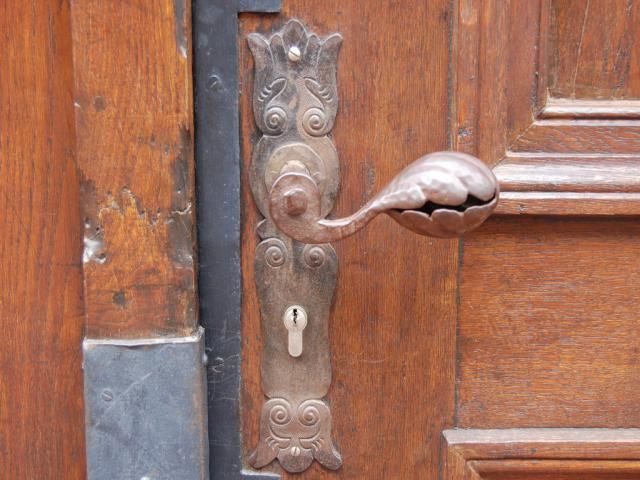Door-handle: (248, 18, 500, 472)
